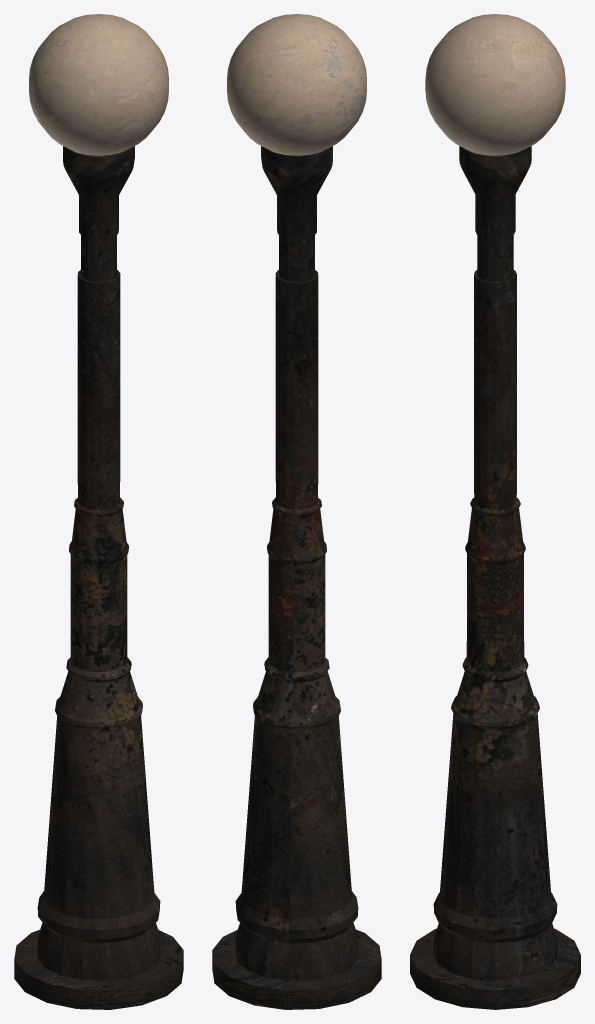
File: luminaria.obj
The picture shows the model from 3 angles, left to right: view 1: azimuth 30°, elevation 25°; view 2: azimuth 150°, elevation 25°; view 3: azimuth 270°, elevation 25°; orthographic projection.
Visible parts, largest first — view 1: Luminaria; view 2: Luminaria; view 3: Luminaria.
Part boxes in pixels (x1=…): Luminaria: x1=14, y1=14, x2=183, y2=1009; Luminaria: x1=212, y1=14, x2=381, y2=1009; Luminaria: x1=410, y1=14, x2=580, y2=1009.
Size of the model in its own units: 0.4 by 2.46 by 0.4.
2 materials, 2 textured.
